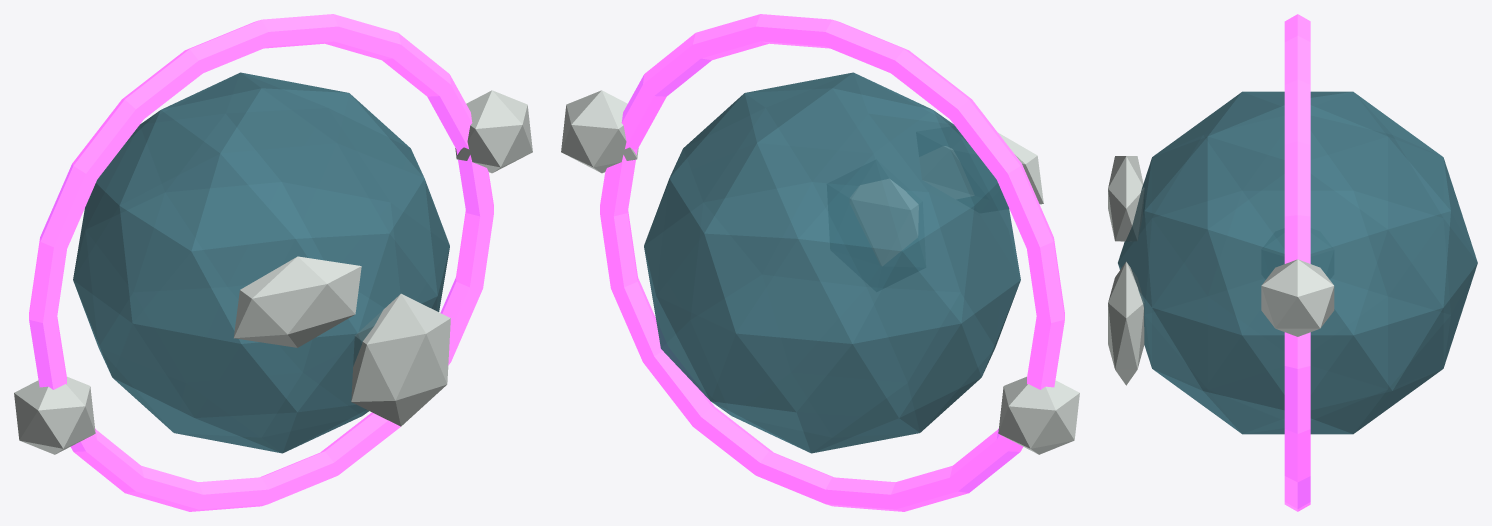
Rendered from Find_WrongEarth.glb.
3 views of the same model, side by side, from view 1: azimuth 30°, elevation 25°; view 2: azimuth 150°, elevation 25°; view 3: azimuth 270°, elevation 25° (orthographic). The views are drawn at different scales.
Visible parts, largest first — view 1: Find_WrongEarth, Find_WrongEarth_StandRing; view 2: Find_WrongEarth, Find_WrongEarth_StandRing; view 3: Find_WrongEarth, Find_WrongEarth_StandRing.
Boxes of the visible parts, left/top/right/bottom form: Find_WrongEarth: left=14, top=72, right=532, bottom=454; Find_WrongEarth_StandRing: left=29, top=14, right=493, bottom=511; Find_WrongEarth: left=561, top=72, right=1079, bottom=454; Find_WrongEarth_StandRing: left=600, top=14, right=1064, bottom=511; Find_WrongEarth: left=1108, top=91, right=1477, bottom=434; Find_WrongEarth_StandRing: left=1284, top=14, right=1310, bottom=511.
Bounding box in the file's own units: 1.28 × 1.17 × 0.8625.
